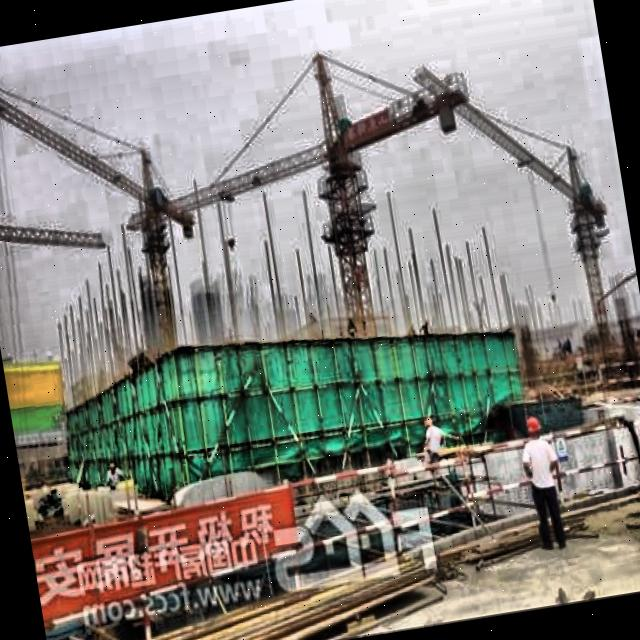helmet: (524, 413, 545, 443)
